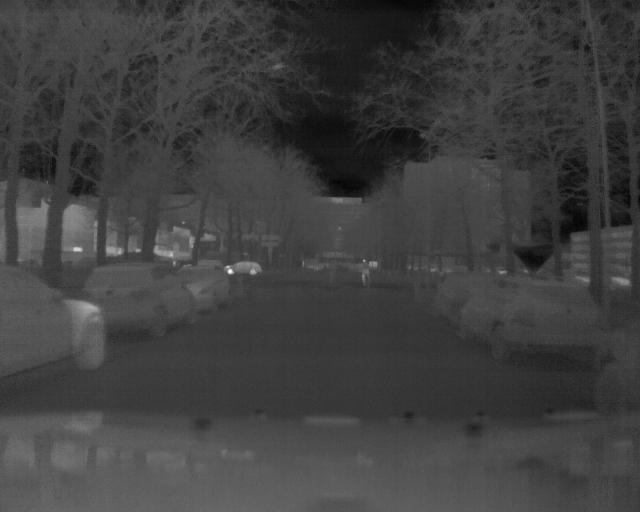car: (457, 273, 599, 366), (1, 262, 108, 373), (84, 263, 203, 334), (429, 269, 503, 333), (171, 259, 233, 311), (225, 261, 265, 278)
person: (358, 256, 371, 288)
